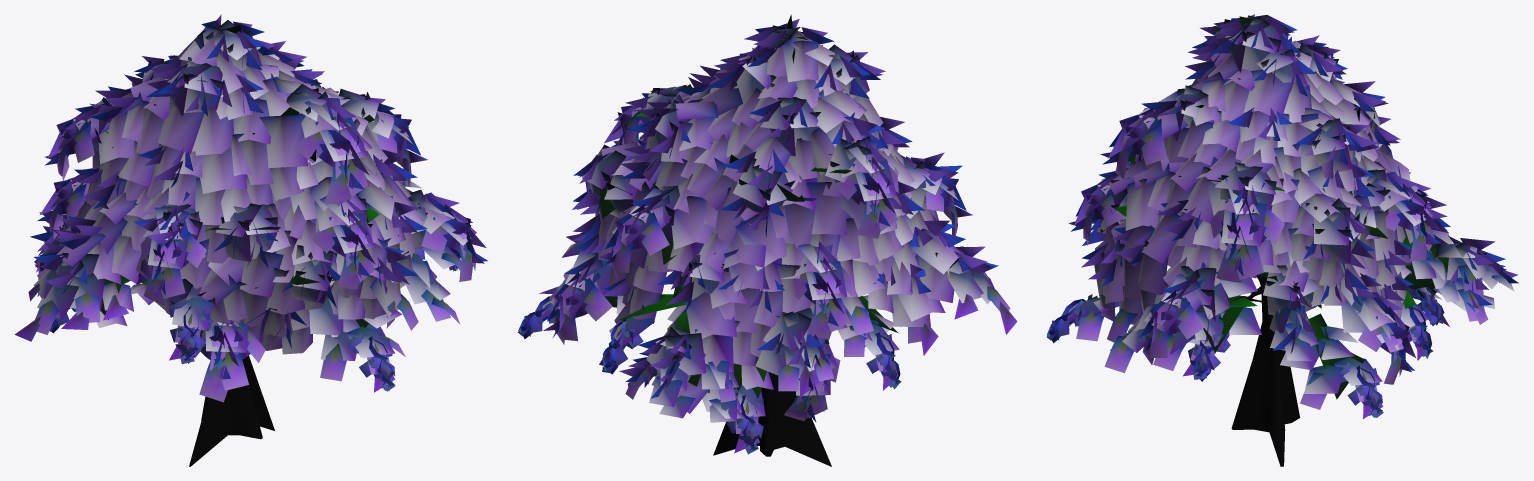
The model's file is tro_tree_2_small.dae.
The picture shows the model from 3 angles, left to right: view 1: azimuth 30°, elevation 25°; view 2: azimuth 150°, elevation 25°; view 3: azimuth 270°, elevation 25°; orthographic projection. The views are drawn at different scales.
Visible parts, largest first — view 1: tro_tree_2_small; view 2: tro_tree_2_small; view 3: tro_tree_2_small.
Part boxes in pixels (box(x1,y1,x2,y2)): tro_tree_2_small: box(14, 14, 487, 466); tro_tree_2_small: box(517, 14, 1017, 466); tro_tree_2_small: box(1047, 14, 1518, 466).
Bounding box in the file's own units: 15.23 × 14.96 × 14.8.
